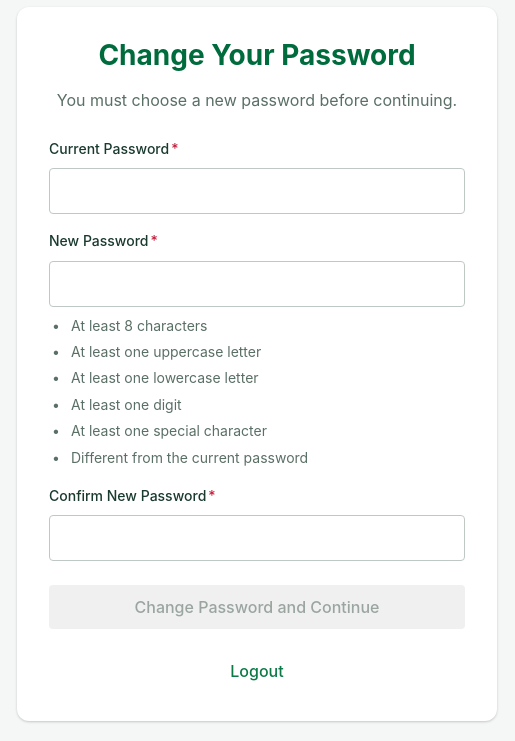
Test: ChangePasswordForm (UI-03) › keeps submit disabled until all rules are met and confirmation matches
Type "OldPass123!" into the password field with test id "current-password". click: [257, 191]
box: 49,168 -> 465,214
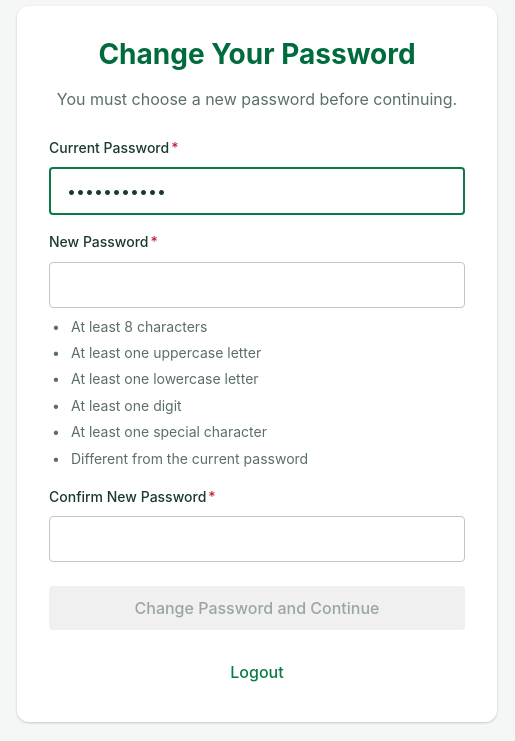
Type "New$Pass1!" into the password field with test id "new-password". click: [257, 285]
box: 49,262 -> 465,308
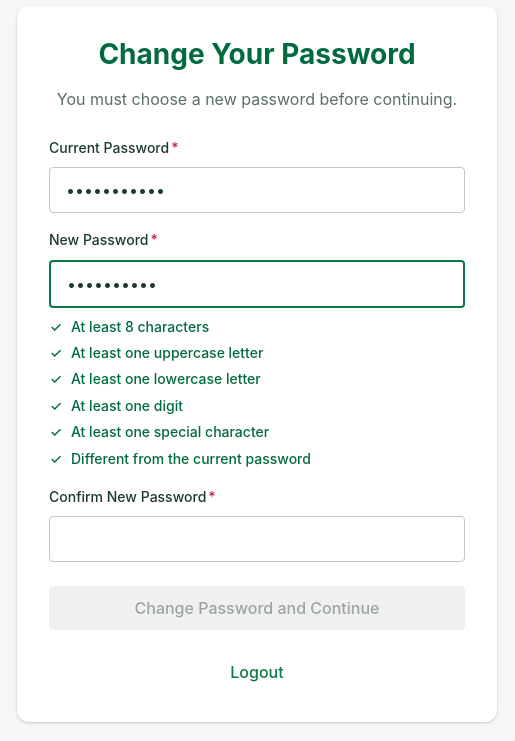
Now the list item with test id "password-rule-1" has class "is-met", box 50,318 -> 209,335
Now the list item with test id "password-rule-2" has class "is-met", box 50,344 -> 263,361
Now the list item with test id "password-rule-3" has class "is-met", box 50,370 -> 261,387
Type "Different123!" into the password field with test id "confirm-password". click: [257, 539]
box: 49,516 -> 465,562
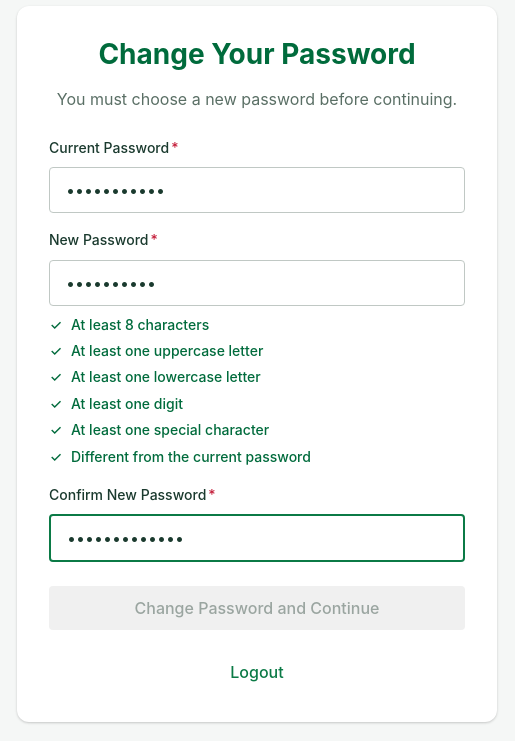
Expected: the button with test id "change-password-btn" is disabled, 49,586 -> 465,630
Type "New$Pass1!" into the password field with test id "confirm-password". click: [257, 538]
box: 49,514 -> 465,562
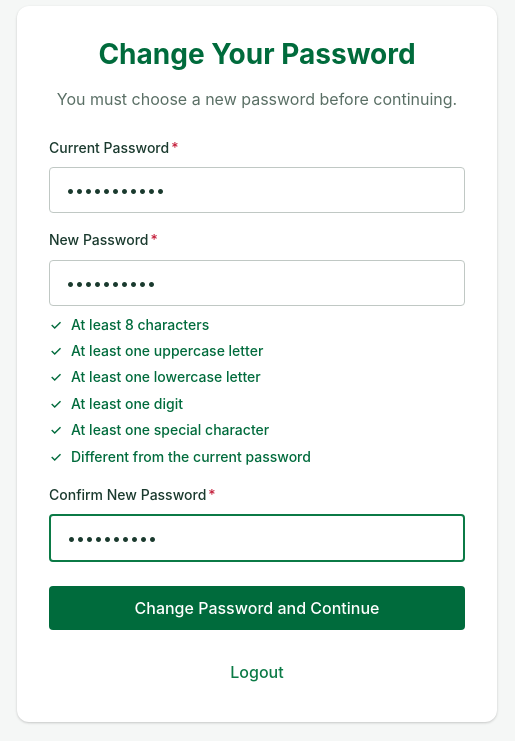
Now the button with test id "change-password-btn" is enabled, box 49,586 -> 465,630
